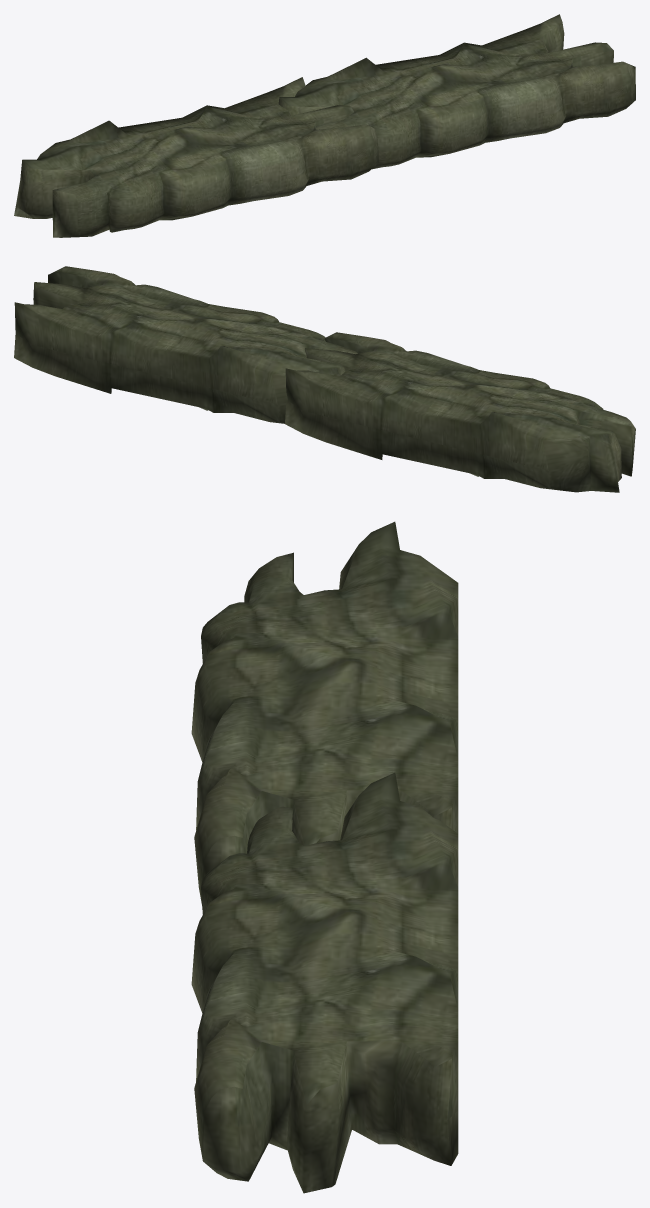
Rendered from military_sandbag_wet_longsection.glb.
3 renders of one model, top to bottom at view 1: azimuth 30°, elevation 25°; view 2: azimuth 150°, elevation 25°; view 3: azimuth 270°, elevation 25°, orthographic. The views are drawn at different scales.
Bounding box in the file's own units: 169 × 22.14 × 33.47.
Materials: 1 (1 with a texture image).
